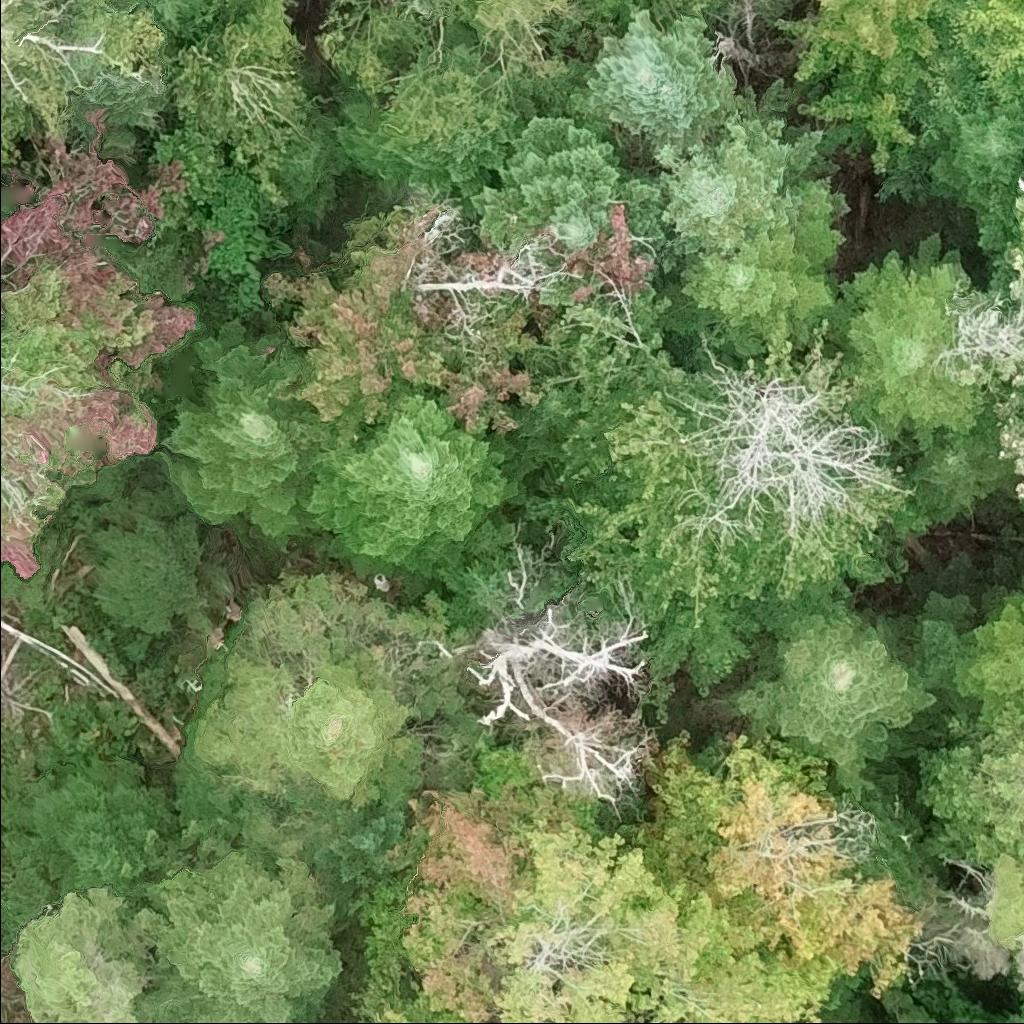crown: (345, 734, 839, 1023), (535, 370, 934, 698), (0, 106, 226, 580), (640, 724, 937, 1001), (172, 559, 481, 825), (257, 178, 546, 435), (420, 549, 658, 808), (156, 316, 368, 550), (305, 395, 541, 597), (725, 594, 941, 805), (133, 838, 349, 1023), (654, 76, 844, 282), (818, 230, 990, 454), (684, 368, 903, 532), (657, 175, 850, 352), (772, 0, 948, 177), (0, 745, 188, 897), (330, 73, 546, 204), (564, 2, 741, 150), (469, 114, 669, 244), (83, 484, 232, 654), (880, 0, 1023, 172), (917, 699, 1023, 876), (896, 401, 1015, 523), (871, 586, 981, 698), (923, 92, 1023, 208), (301, 798, 414, 900), (741, 314, 857, 407), (951, 579, 1023, 727), (958, 356, 1023, 502), (932, 293, 1023, 370), (433, 546, 519, 627), (512, 385, 596, 463), (347, 968, 466, 1023), (417, 0, 576, 36), (973, 183, 1023, 264), (461, 510, 516, 559), (0, 937, 31, 1023), (1001, 257, 1023, 348), (897, 1009, 943, 1023), (624, 1012, 652, 1023), (1016, 173, 1023, 193), (1017, 502, 1023, 510)
